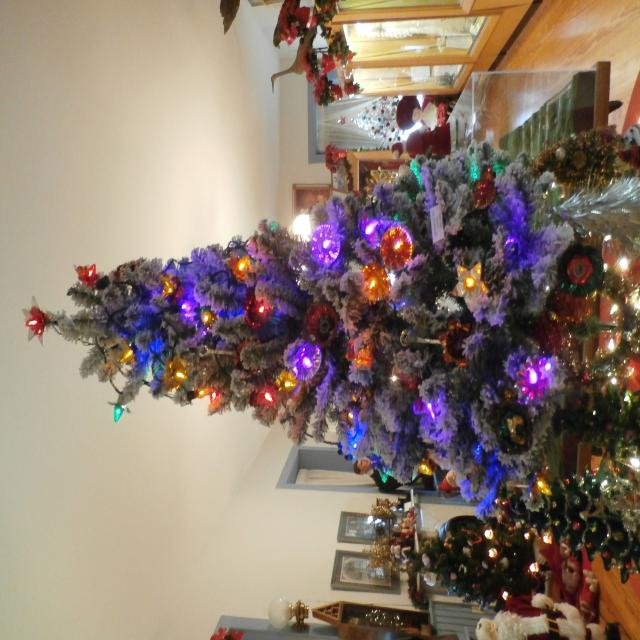Christmas-tree: (122, 16, 358, 640)
